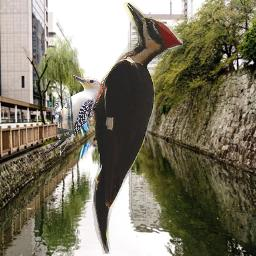Woodpecker: (68, 2, 183, 254), (39, 73, 103, 159)
